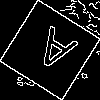A: (25, 25, 80, 82)
